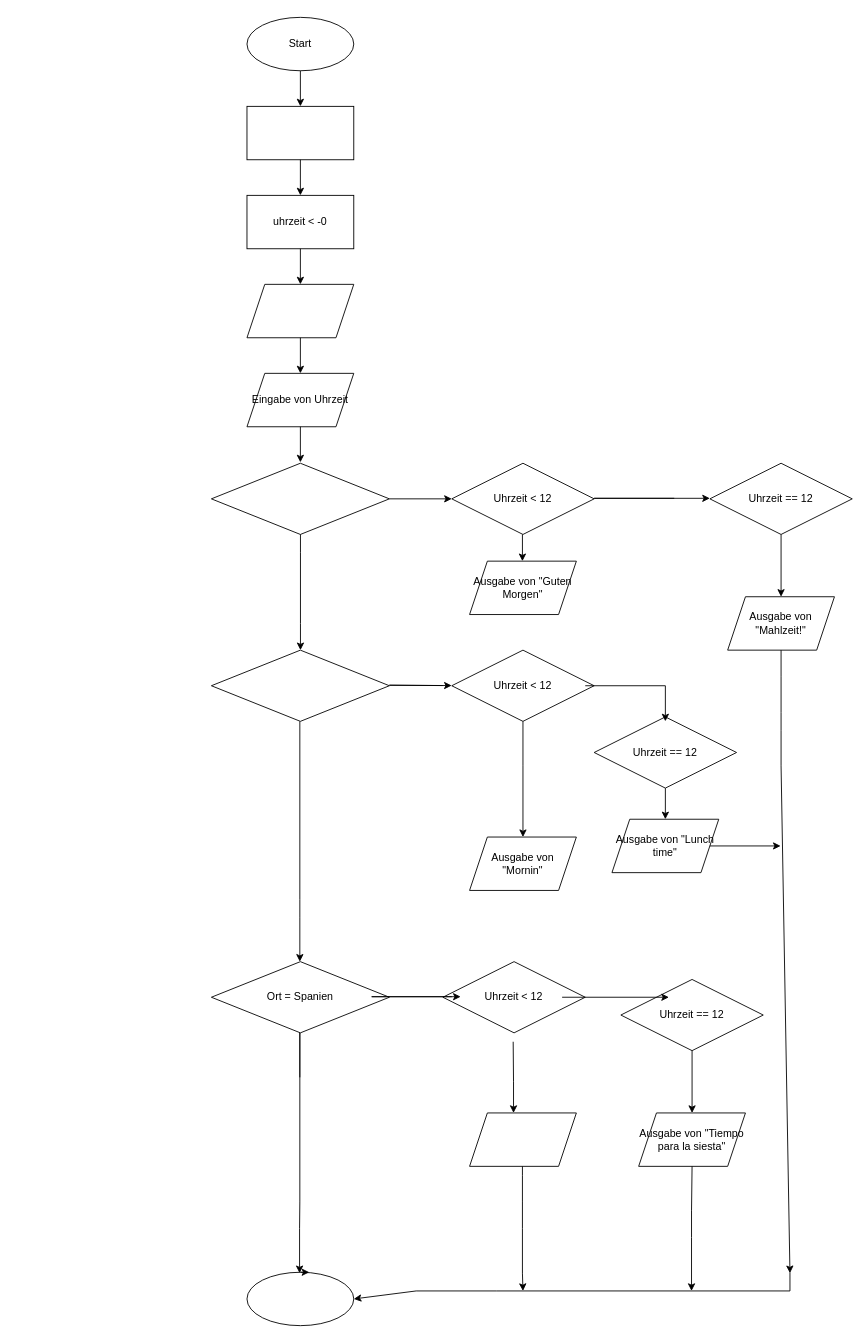
Image size: 868x1341. Some labels were removed from this diagram. Each missing label, with the centre of its shape:
Ausgabe von "Buenos dias": (522,1139)
Eingabe von Ort: (300,310)
Ende: (300,1298)
Ort <- "": (300,132)
Ort = Deutschland: (299,498)
Ort = USA: (299,685)
